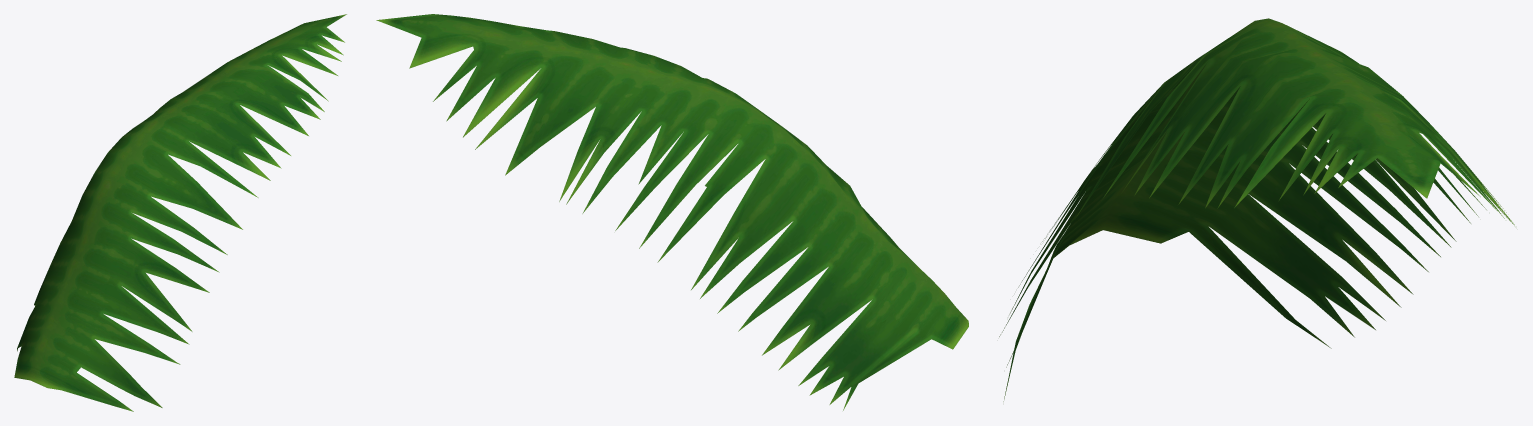
The model's file is palm_leaves_palm_leaves_0_000.obj.
3 renders of one model, left to right at view 1: azimuth 30°, elevation 25°; view 2: azimuth 150°, elevation 25°; view 3: azimuth 270°, elevation 25°, orthographic. The views are drawn at different scales.
Visible parts, largest first — view 1: palm_leaves_palm_leaves_0; view 2: palm_leaves_palm_leaves_0; view 3: palm_leaves_palm_leaves_0.
Boxes of the visible parts, box(x1,y1,x2,y2) form: palm_leaves_palm_leaves_0: box(14, 14, 346, 411); palm_leaves_palm_leaves_0: box(376, 14, 968, 410); palm_leaves_palm_leaves_0: box(999, 18, 1514, 401).
Size of the model in its own units: 26.55 by 15.98 by 14.99.
Materials: 1 (1 with a texture image).
